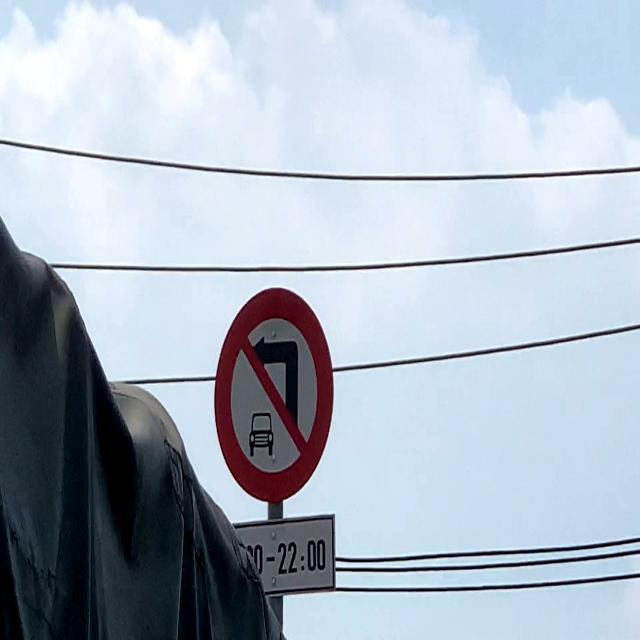P.103c: (213, 287, 335, 505)
